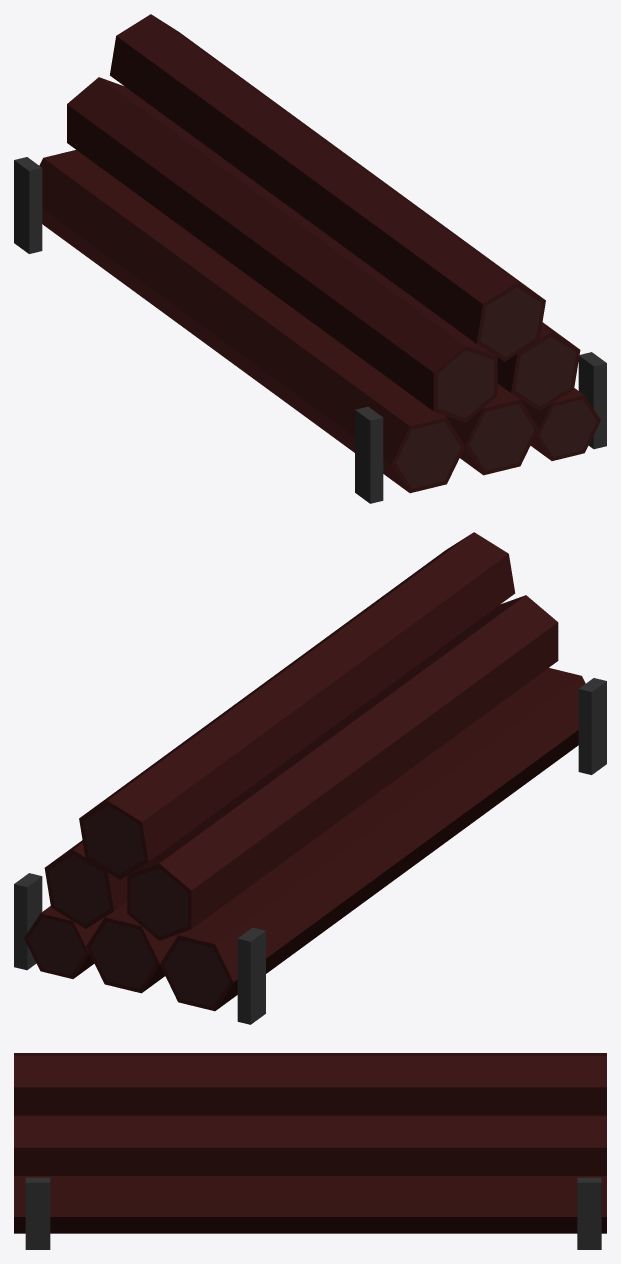
File: BoomStronken.obj
3 renders of one model, top to bottom at view 1: azimuth 30°, elevation 25°; view 2: azimuth 150°, elevation 25°; view 3: azimuth 270°, elevation 25°, orthographic. The views are drawn at different scales.
Parts seen in each view (by area): view 1: pCylinder8; view 2: pCylinder8; view 3: pCylinder8.
Boxes of the visible parts, box(x1,y1,x2,y2) form: pCylinder8: box(14, 14, 606, 503); pCylinder8: box(14, 532, 606, 1024); pCylinder8: box(14, 1053, 606, 1249).
Bounding box in the file's own units: 2.75 × 2.14 × 7.38.
